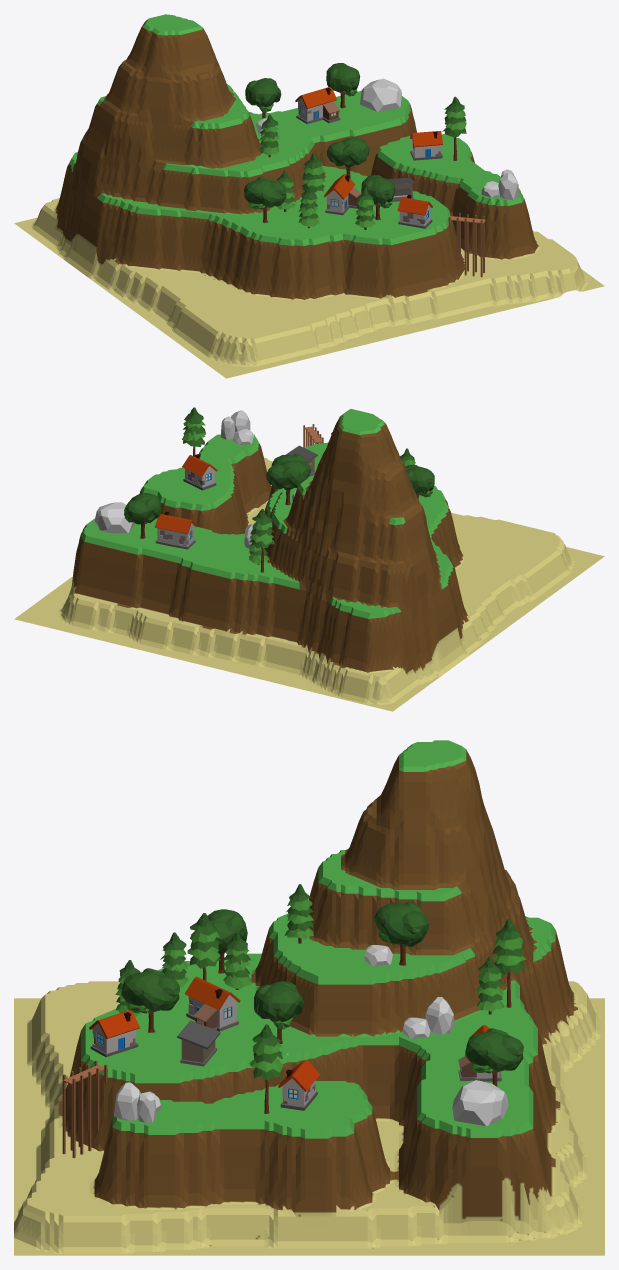
Rendered from QuietIsland.fbx.
The picture shows the model from 3 angles, top to bottom: view 1: azimuth 30°, elevation 25°; view 2: azimuth 150°, elevation 25°; view 3: azimuth 270°, elevation 25°; orthographic projection. The views are drawn at different scales.
Visible parts, largest first — view 1: Plane.002; view 2: Plane.002; view 3: Plane.002.
Part boxes in pixels (x1,y1,x2,y2): Plane.002: (14, 14, 604, 378); Plane.002: (14, 407, 604, 711); Plane.002: (14, 740, 604, 1255).
Size of the model in its own units: 10625 by 5955 by 10312.
